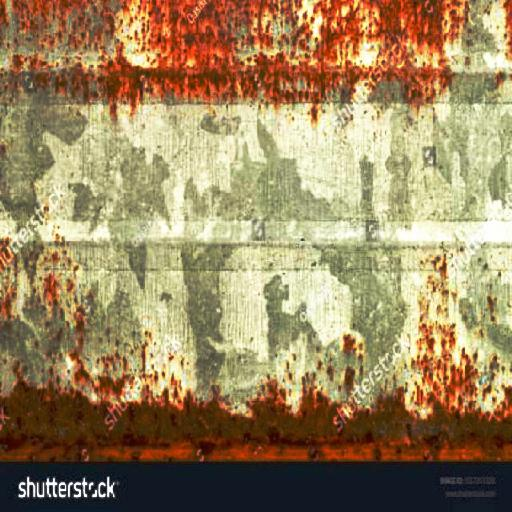corrosion: (0, 337, 512, 460), (2, 0, 466, 113)
